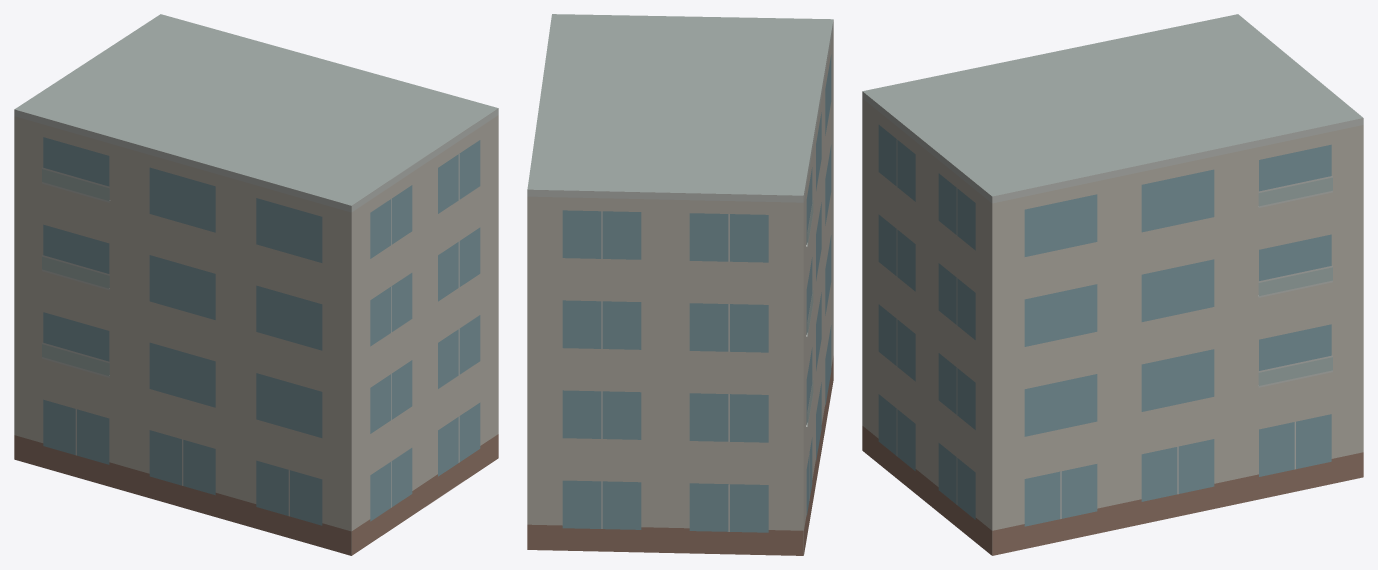
The model's file is survey-upis-32726654.glb.
3 renders of one model, left to right at view 1: azimuth 30°, elevation 25°; view 2: azimuth 150°, elevation 25°; view 3: azimuth 270°, elevation 25°, orthographic. The views are drawn at different scales.
Parts seen in each view (by area): view 1: survey-upis-32726654.tmp; view 2: survey-upis-32726654.tmp; view 3: survey-upis-32726654.tmp.
Boxes of the visible parts, x1,y1,x2,y2 form: survey-upis-32726654.tmp: [14, 14, 498, 555]; survey-upis-32726654.tmp: [527, 14, 833, 555]; survey-upis-32726654.tmp: [862, 14, 1363, 555].
Size of the model in its own units: 13.79 by 12.65 by 16.
